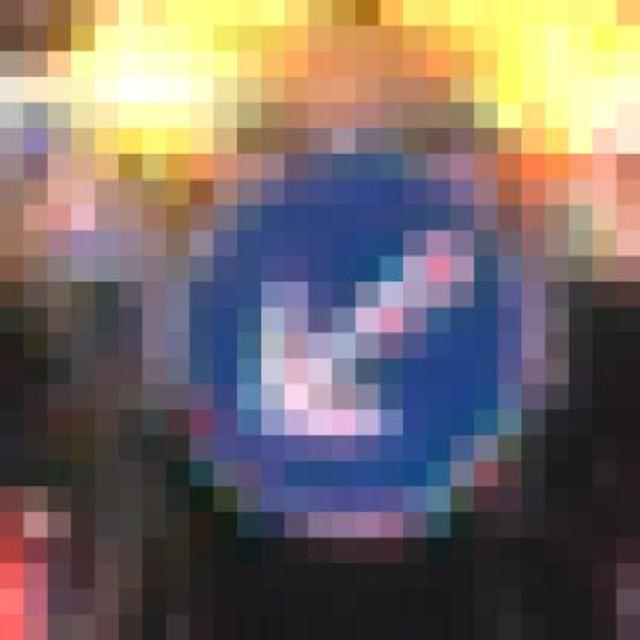Keep-Left: (142, 102, 593, 564)
